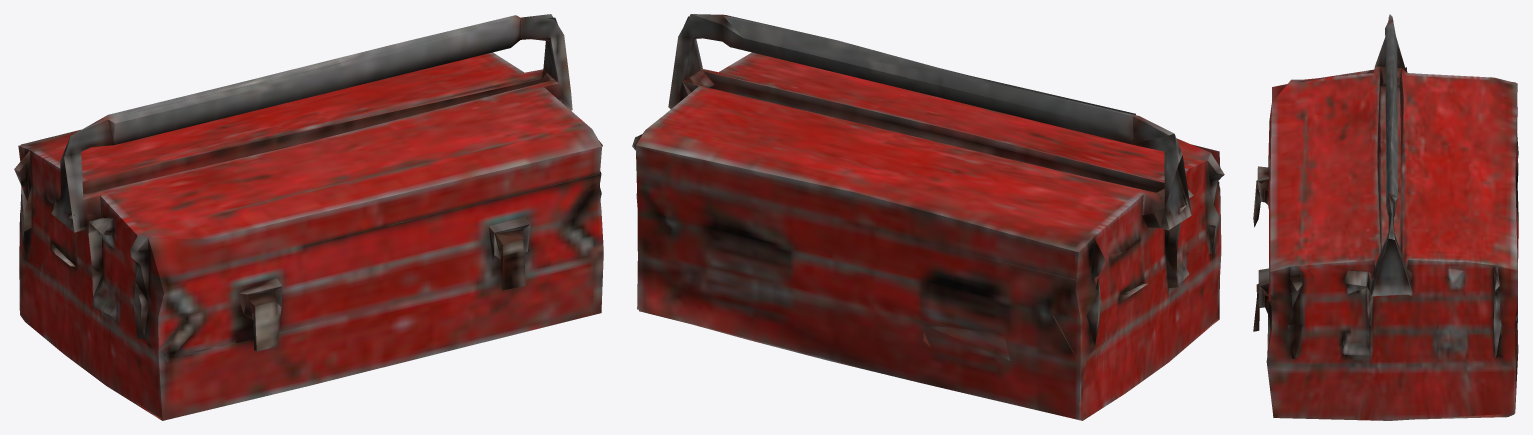
File: p7-hand-toolbox.glb
3 renders of one model, left to right at view 1: azimuth 30°, elevation 25°; view 2: azimuth 150°, elevation 25°; view 3: azimuth 270°, elevation 25°, orthographic. The views are drawn at different scales.
Parts seen in each view (by area): view 1: p7-hand-toolbox; view 2: p7-hand-toolbox; view 3: p7-hand-toolbox.
Part boxes in pixels (bbox=[...]): p7-hand-toolbox: bbox=[14, 14, 603, 420]; p7-hand-toolbox: bbox=[632, 14, 1224, 420]; p7-hand-toolbox: bbox=[1253, 14, 1518, 420].
Size of the model in its own units: 0.5 by 0.25 by 0.2661.
1 material, 1 textured.
